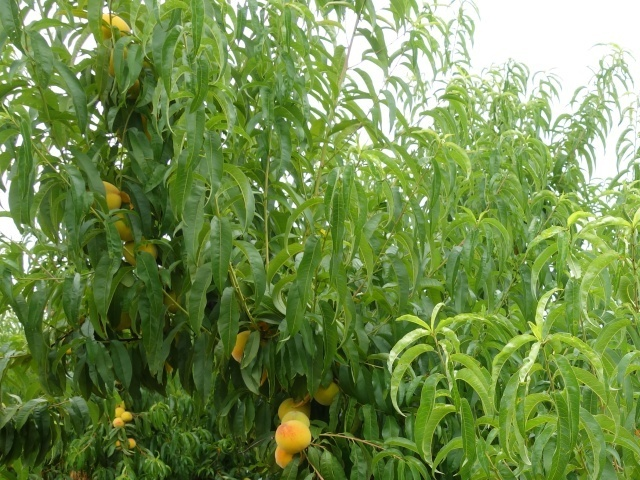peach: (118, 232, 163, 268), (266, 421, 315, 454), (96, 12, 133, 49), (105, 205, 137, 247), (227, 328, 263, 365), (308, 375, 343, 408), (94, 177, 125, 214), (268, 445, 308, 471), (275, 392, 307, 420), (274, 410, 313, 430)
